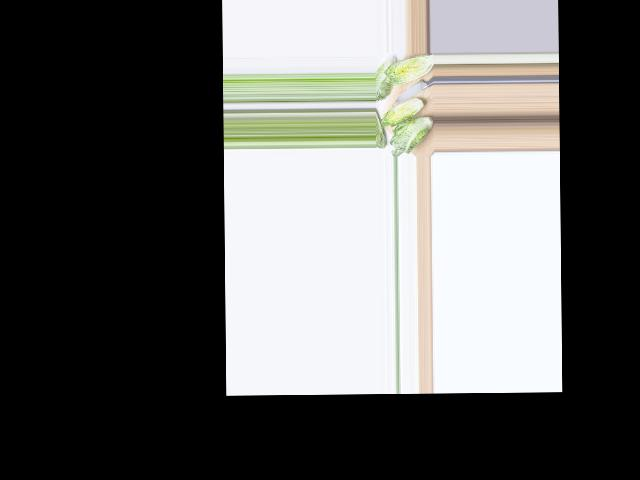lettuce: (377, 56, 396, 99)
